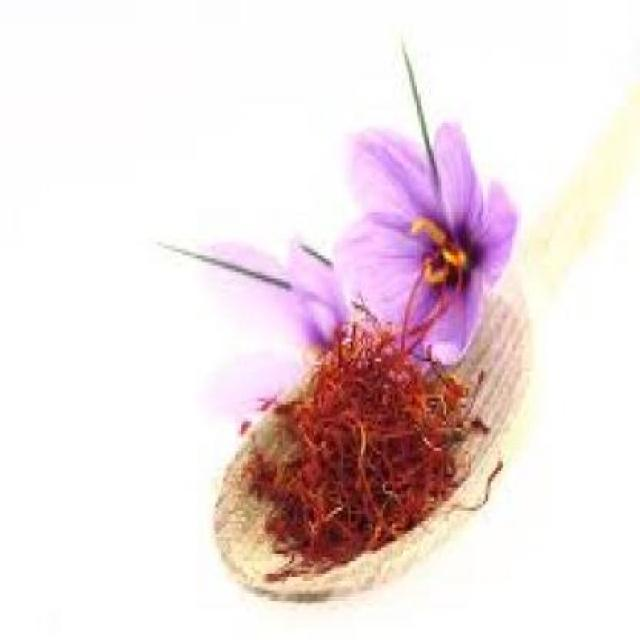saffron open: (338, 122, 516, 353)
